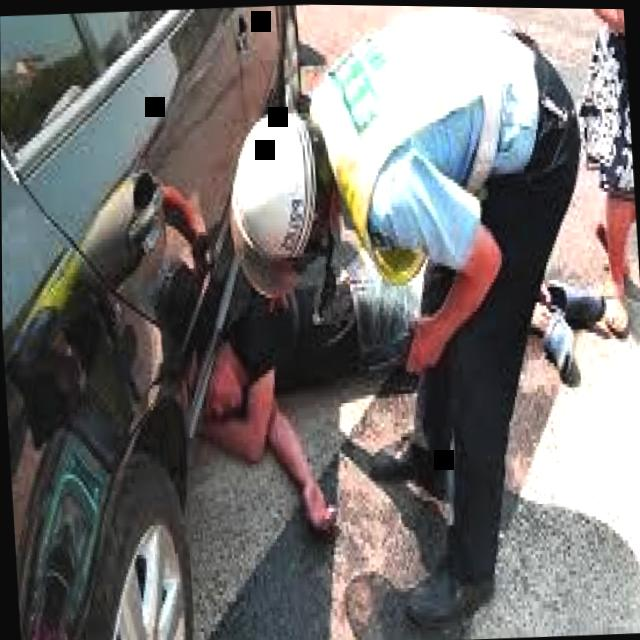Fall-Detected: (159, 148, 636, 554)
